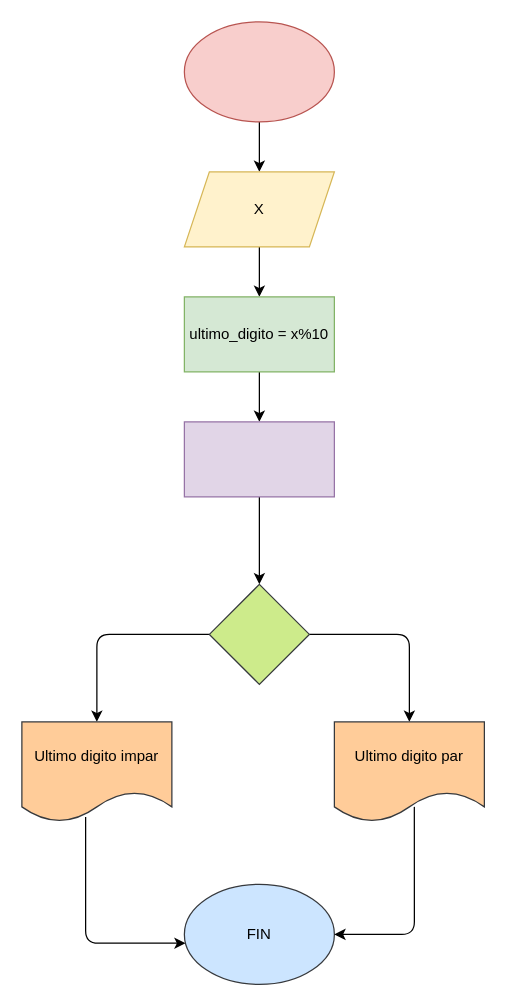
Some shapes in this 506 by 1006 pixel diagram are drawn without their labels. The shapes that lost their labels are listed below. From the top down, each one's centre as x and y in pixels, then its label:
At (x=258, y=71): "INICIO".
At (x=258, y=459): "r = ultimo_digito%2".
At (x=258, y=633): "r == 0".
